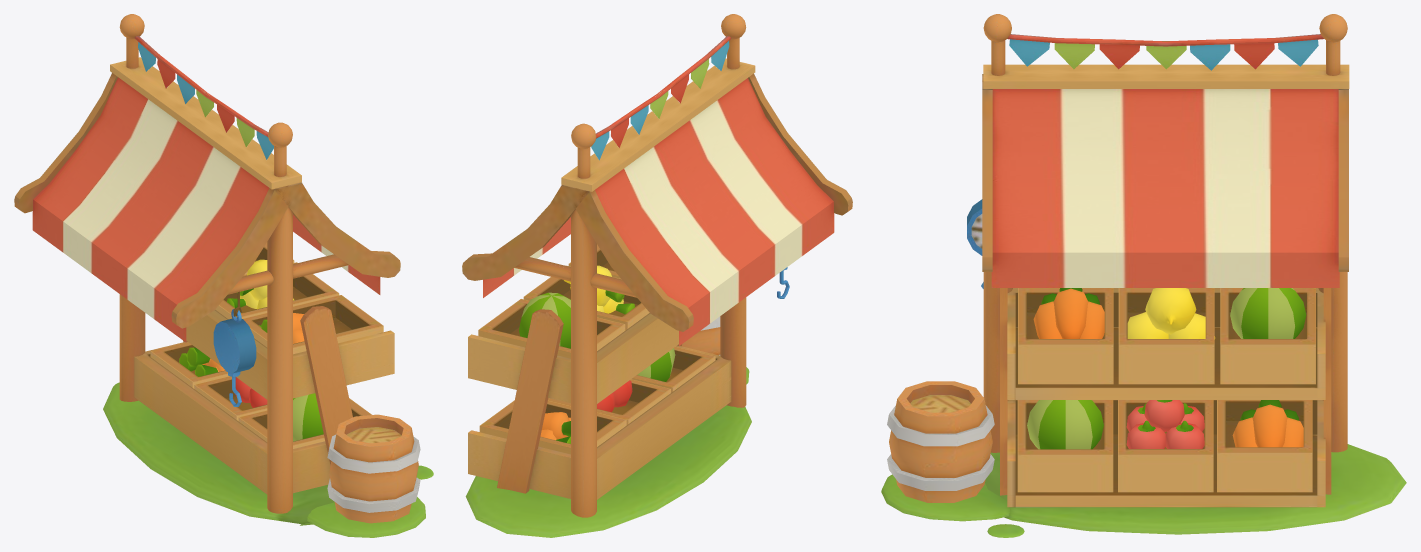
The model's file is vegetables_shop.glb.
The picture shows the model from 3 angles, left to right: view 1: azimuth 30°, elevation 25°; view 2: azimuth 150°, elevation 25°; view 3: azimuth 270°, elevation 25°; orthographic projection. The views are drawn at different scales.
Parts seen in each view (by area): view 1: tent, floor, shop-1, roof-1, rack-2.001, Barrel, roof-2, rack-1, rack-2, Flags, Box-1.001, scales (+7 smaller); view 2: tent, floor, shop-1, rack-2.001, roof-1, rack-1, rack-2, roof-2, Flags, Box-3, Box-6, Box-5 (+9 smaller); view 3: tent, floor, Barrel, roof-2, rack-1, rack-2.001, shop-1, Box-1, Box-6, Box-1.001, Flags, Box-3 (+19 smaller).
Boxes of the visible parts, <box> form: tent: <box>32,77,380,342</box>; floor: <box>103,382,433,537</box>; shop-1: <box>119,37,292,513</box>; roof-1: <box>14,73,400,328</box>; rack-2.001: <box>134,342,330,494</box>; Barrel: <box>327,414,420,523</box>; roof-2: <box>110,57,301,189</box>; rack-1: <box>186,310,394,399</box>; rack-2: <box>183,306,352,464</box>; Flags: <box>134,35,273,159</box>; Box-1.001: <box>243,295,383,354</box>; scales: <box>213,308,256,406</box>; tent: <box>483,78,834,345</box>; floor: <box>465,367,751,537</box>; shop-1: <box>571,38,746,517</box>; rack-2.001: <box>468,345,731,499</box>; roof-1: <box>462,73,852,331</box>; rack-1: <box>468,313,678,403</box>; rack-2: <box>497,309,681,493</box>; roof-2: <box>561,58,755,191</box>; Flags: <box>591,36,730,160</box>; Box-3: <box>478,299,625,358</box>; Box-6: <box>479,400,626,454</box>; Box-5: <box>548,379,670,424</box>; tent: <box>991,89,1339,287</box>; floor: <box>881,444,1406,537</box>; Barrel: <box>887,381,994,502</box>; roof-2: <box>983,64,1349,88</box>; rack-1: <box>1007,288,1325,399</box>; rack-2.001: <box>1007,400,1325,507</box>; shop-1: <box>983,40,1347,452</box>; Box-1: <box>1118,288,1214,384</box>; Box-6: <box>1217,400,1312,492</box>; Box-1.001: <box>1018,288,1113,384</box>; Flags: <box>1007,34,1323,70</box>; Box-3: <box>1220,288,1315,384</box>.
Size of the model in its own units: 2.6 by 3.72 by 3.95.
2 materials, 2 textured.
